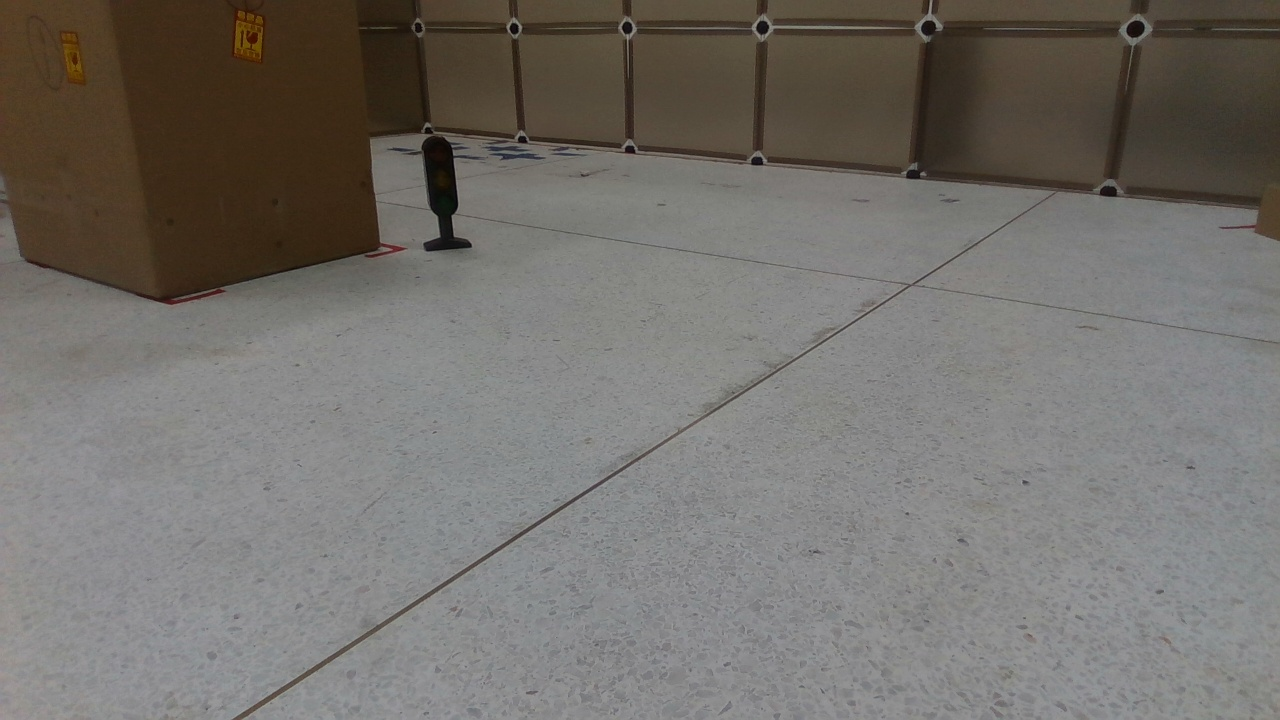Dim traffic light: (412, 134, 476, 255)
